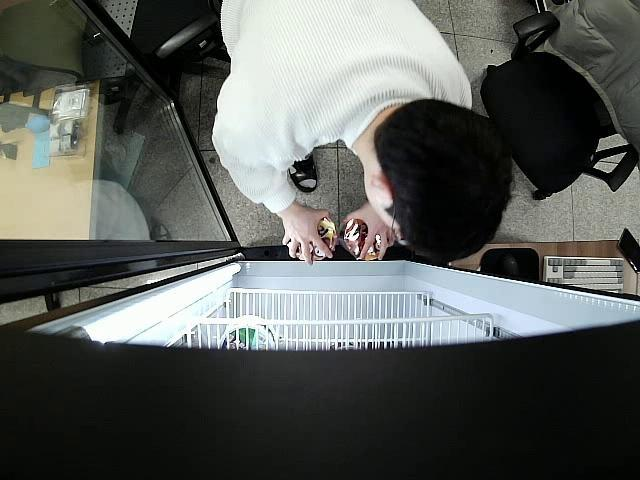05_nuguri_L: (289, 209, 338, 262), (343, 218, 388, 261)
